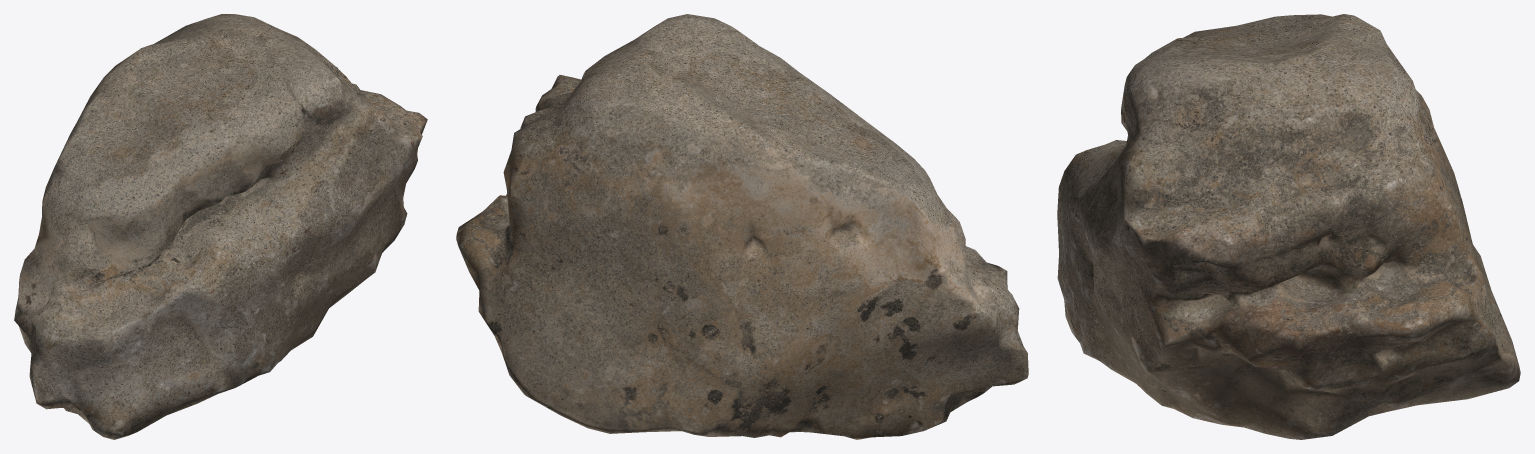
File: vd5recs_tier_2.gltf
3 views of the same model, side by side, from view 1: azimuth 30°, elevation 25°; view 2: azimuth 150°, elevation 25°; view 3: azimuth 270°, elevation 25° (orthographic). The views are drawn at different scales.
Parts seen in each view (by area): view 1: vd5recs_LOD0_TIER2_000; view 2: vd5recs_LOD0_TIER2_000; view 3: vd5recs_LOD0_TIER2_000.
Boxes of the visible parts, box(x1,y1,x2,y2) form: vd5recs_LOD0_TIER2_000: box(14, 14, 427, 439); vd5recs_LOD0_TIER2_000: box(456, 14, 1028, 439); vd5recs_LOD0_TIER2_000: box(1057, 14, 1520, 439).
Size of the model in its own units: 0.1717 by 0.1216 by 0.1308.
1 material, 1 textured.
